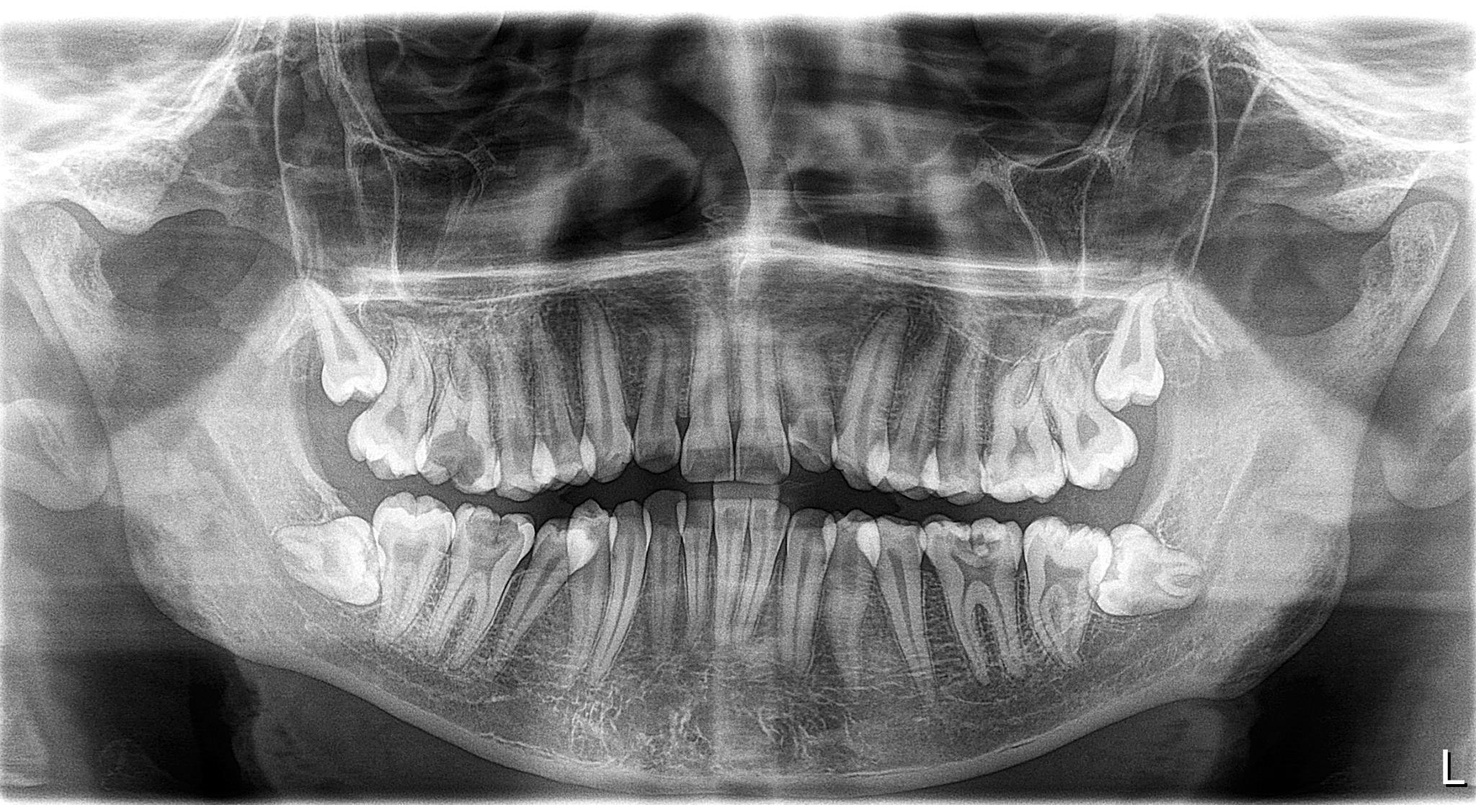Dental Caries: (452, 503, 538, 579), (429, 413, 491, 487), (932, 539, 1015, 590)
Impacted Third Molar: (1110, 524, 1229, 635), (1110, 290, 1207, 426), (294, 286, 388, 404), (281, 503, 388, 595)
